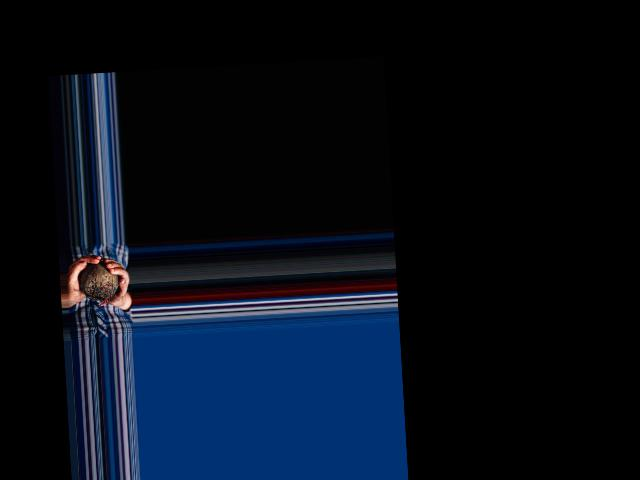beet: (78, 261, 119, 307)
